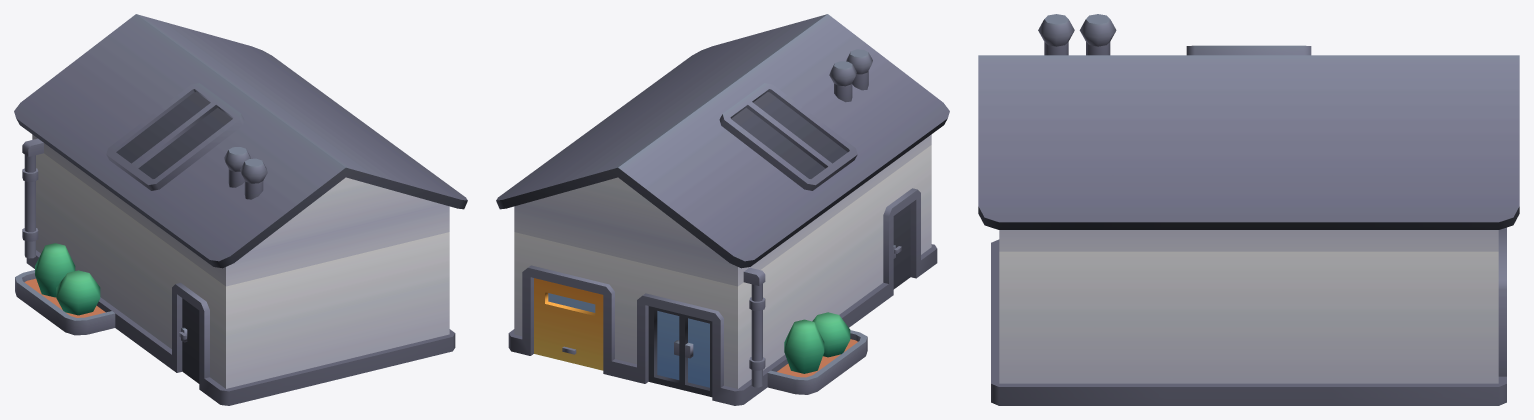
File: k-city-kit-industrial-building-i.glb
3 renders of one model, left to right at view 1: azimuth 30°, elevation 25°; view 2: azimuth 150°, elevation 25°; view 3: azimuth 270°, elevation 25°, orthographic. The views are drawn at different scales.
Parts seen in each view (by area): view 1: building-i; view 2: building-i; view 3: building-i.
Part boxes in pixels (box(x1,y1,x2,y2)): building-i: box(14, 14, 467, 405); building-i: box(496, 14, 949, 405); building-i: box(978, 14, 1519, 405).
Size of the model in its own units: 1.03 by 0.7336 by 1.3.
1 material, 1 textured.
